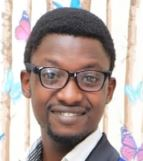without_facemask: (36, 89, 105, 139)
